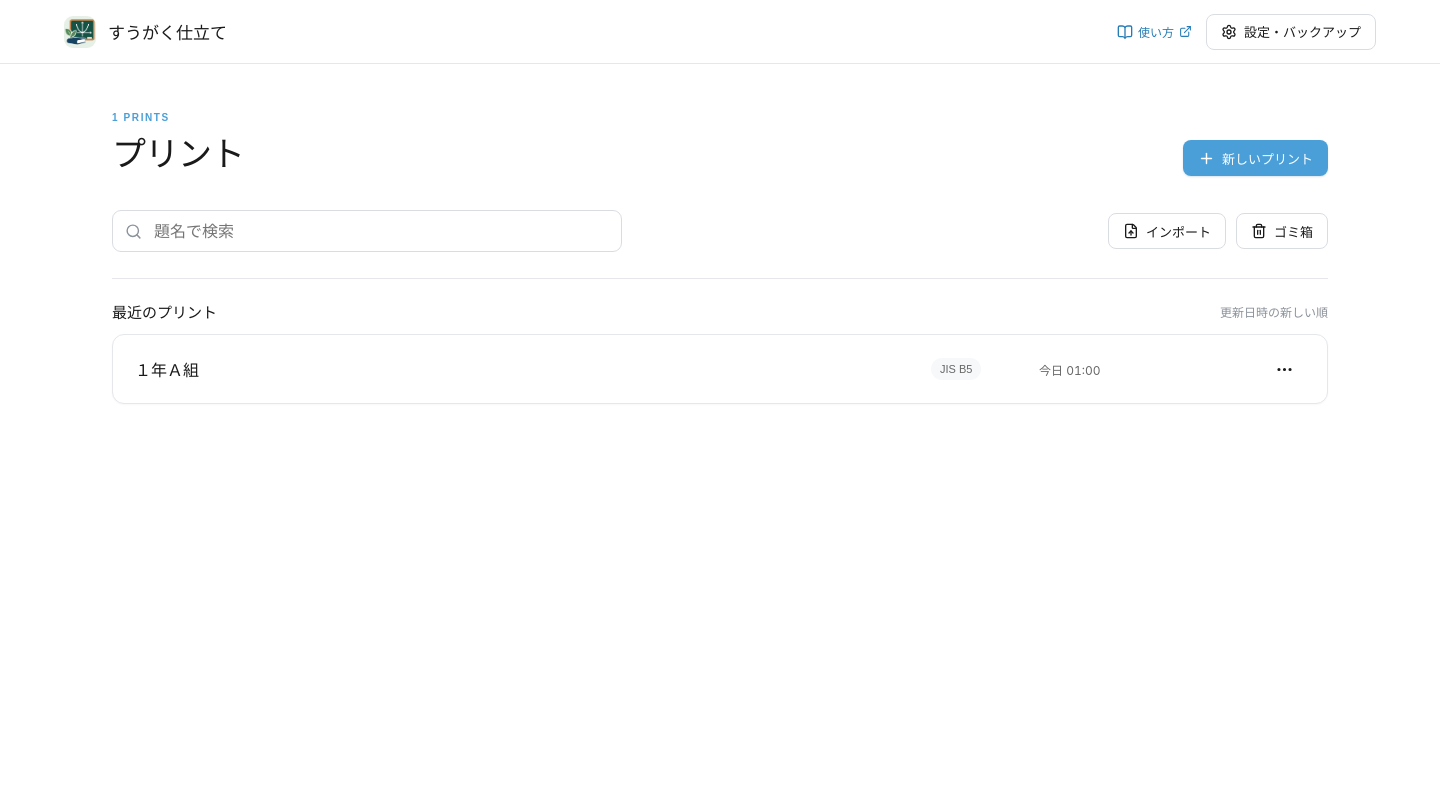
Test case: WorksheetListScreen › 正規化した題名検索で一覧を絞り込む
This screenshot has width=1440, height=810.
Expected: the button "１年Ａ組" is shown, [135,347,913,391]
Type "1年a組" into the field labelled "題名で検索". click: [380, 231]
box: [152,220,609,242]
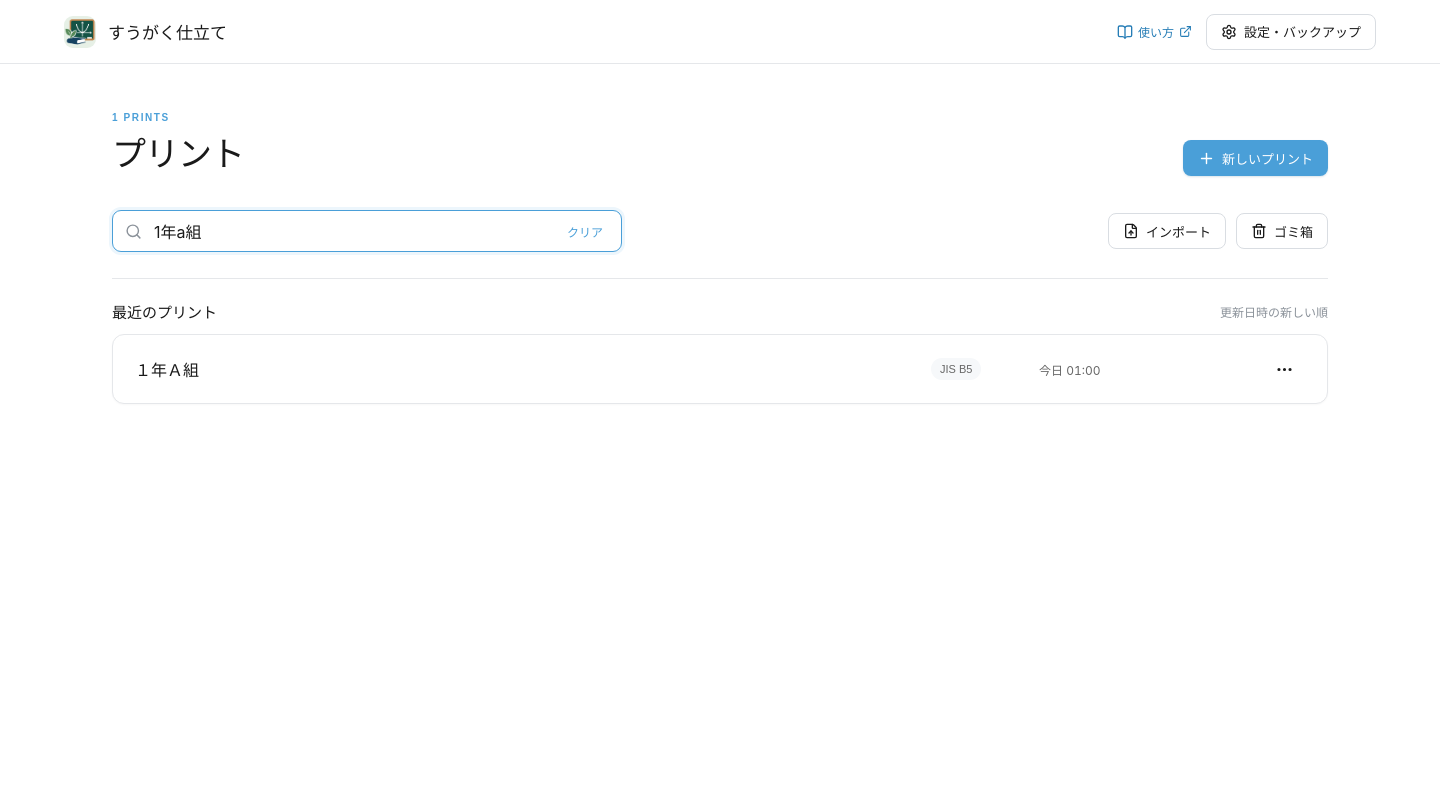
Expected: the button "１年Ａ組" is shown, [135,347,913,391]
Clear the field named "題名で検索". click: [352, 231]
box: [152,220,551,242]
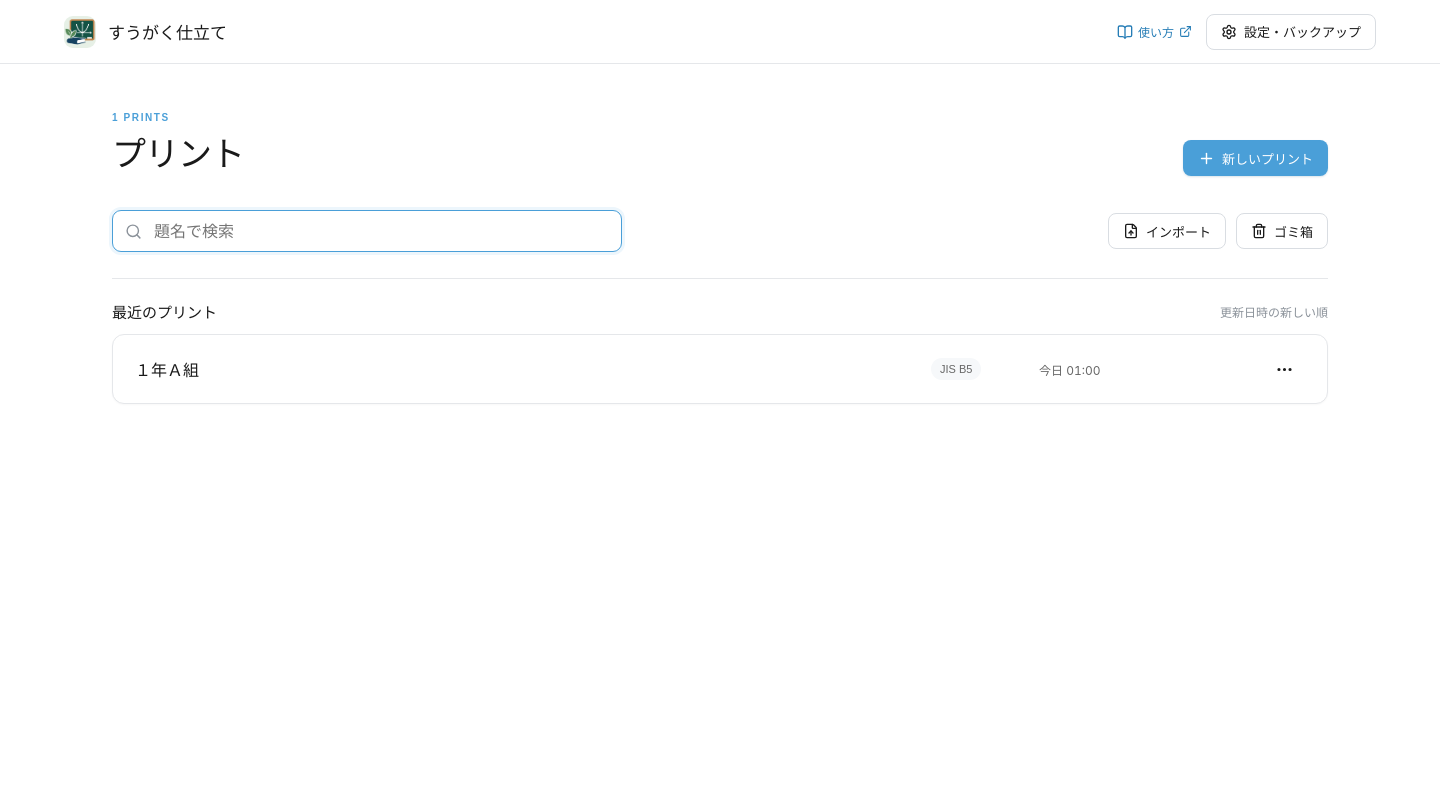
Type "ぷりんと" into the field labelled "題名で検索". click: [380, 231]
box: [152,220,609,242]
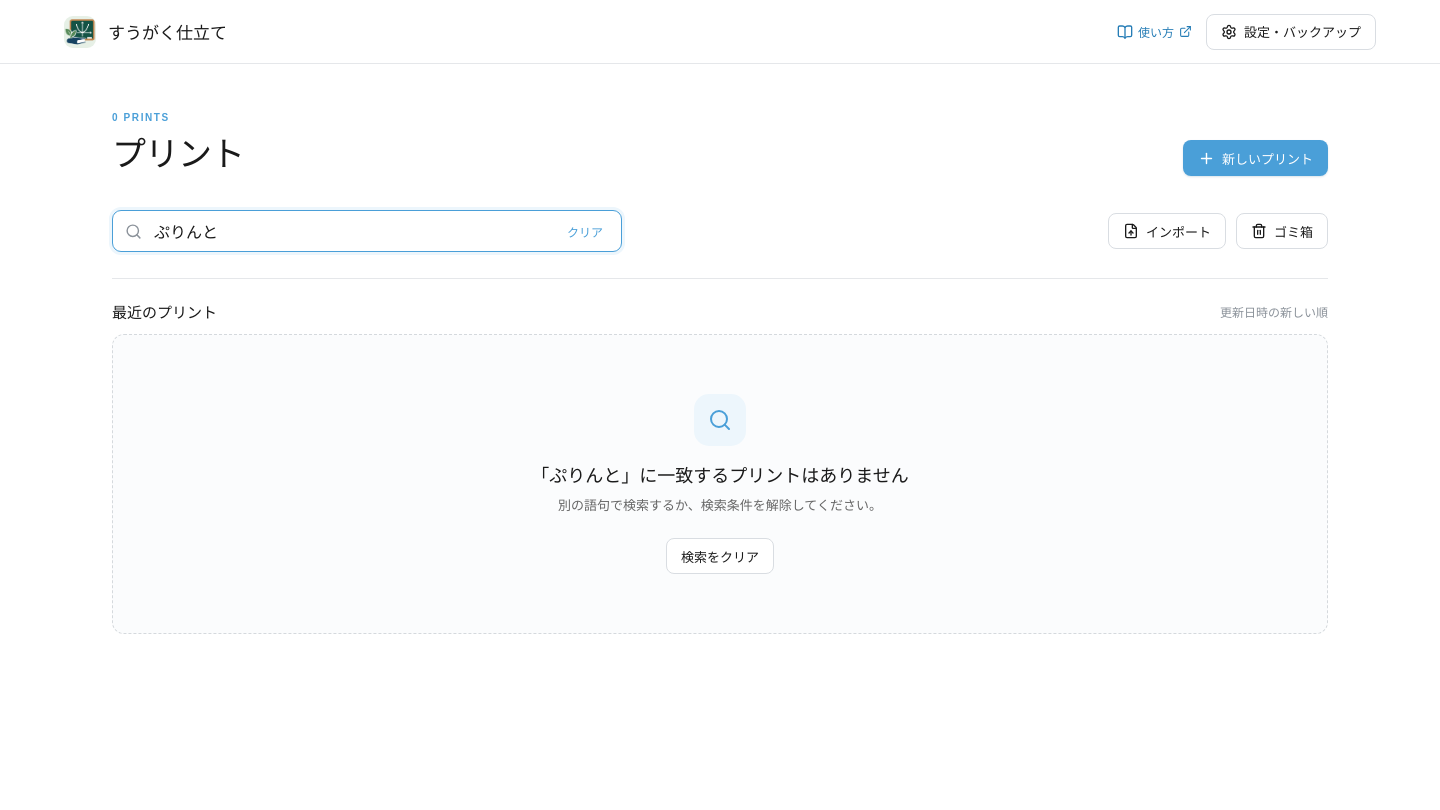
Expected: the heading "「ぷりんと」に一致するプリントはありません" is shown, [531,461,909,487]
